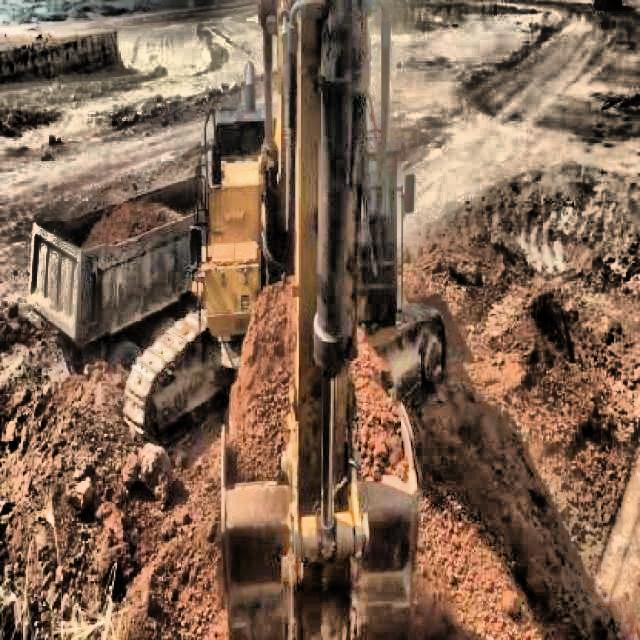dump_truck: (28, 176, 204, 372)
excavator: (121, 0, 449, 638)
